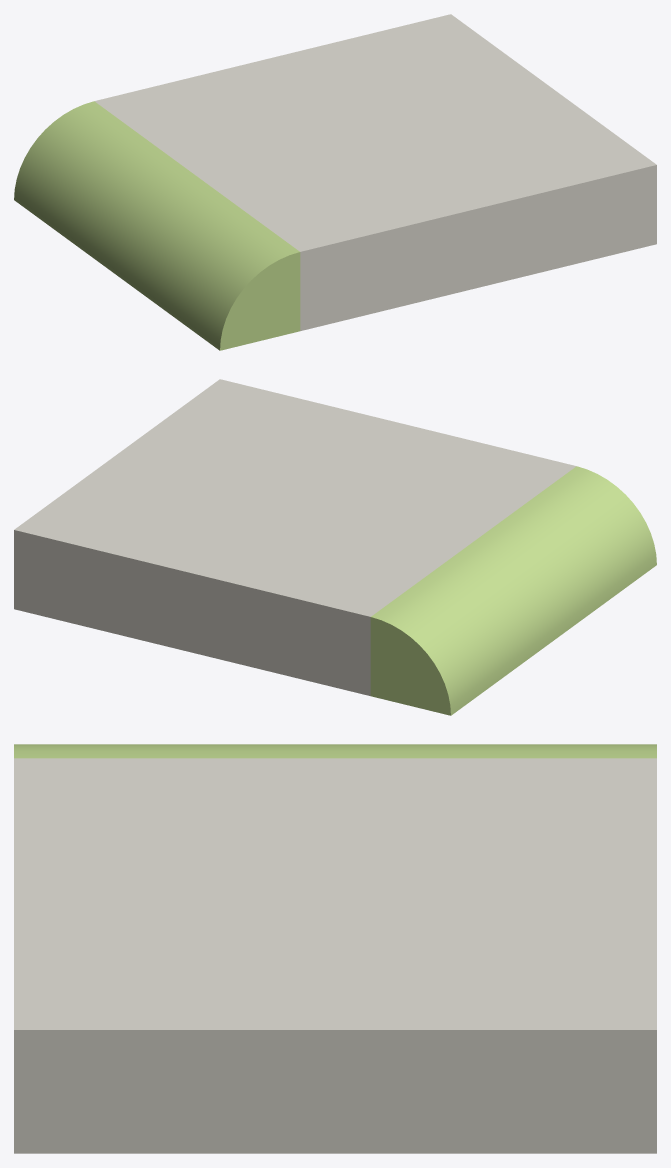
The model's file is building_011.glb.
3 views of the same model, one above another, from view 1: azimuth 30°, elevation 25°; view 2: azimuth 150°, elevation 25°; view 3: azimuth 270°, elevation 25° (orthographic). The views are drawn at different scales.
Visible parts, largest first — view 1: building_011; view 2: building_011; view 3: building_011.
Boxes of the visible parts, left/top/right/bottom form: building_011: left=14, top=14, right=656, bottom=350; building_011: left=14, top=379, right=656, bottom=715; building_011: left=14, top=744, right=656, bottom=1153.
Size of the model in its own units: 1.22 by 0.2125 by 1.
